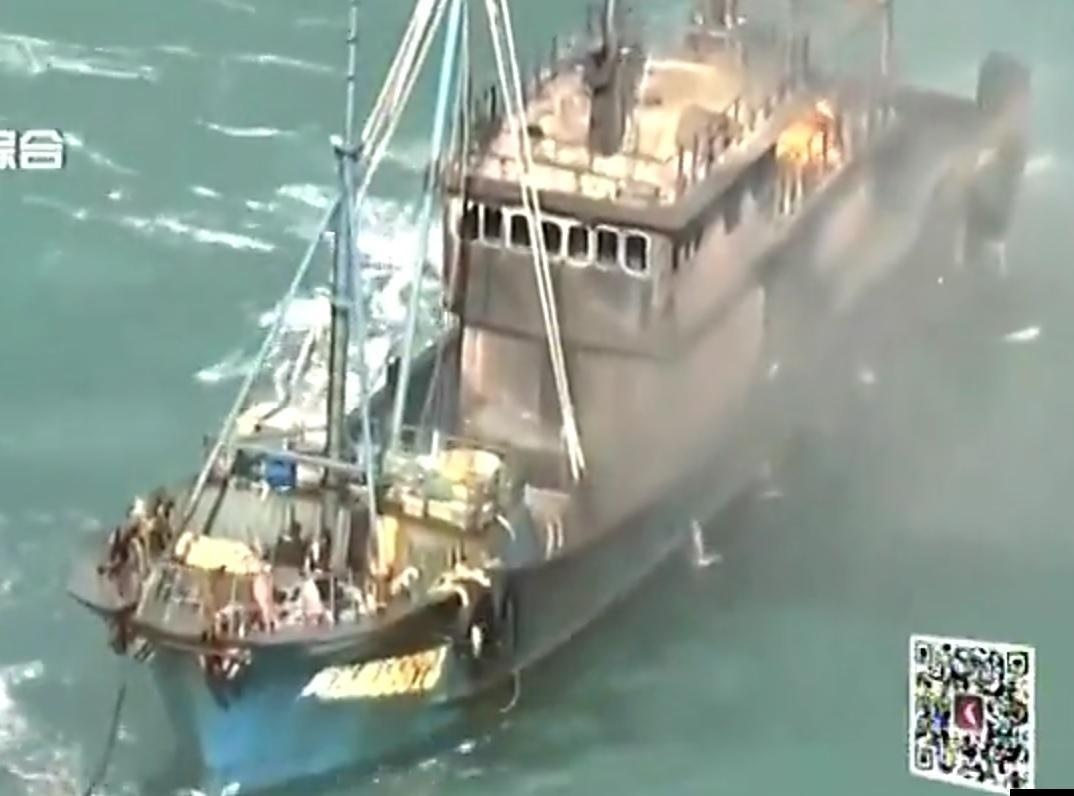fire: (457, 32, 852, 204)
